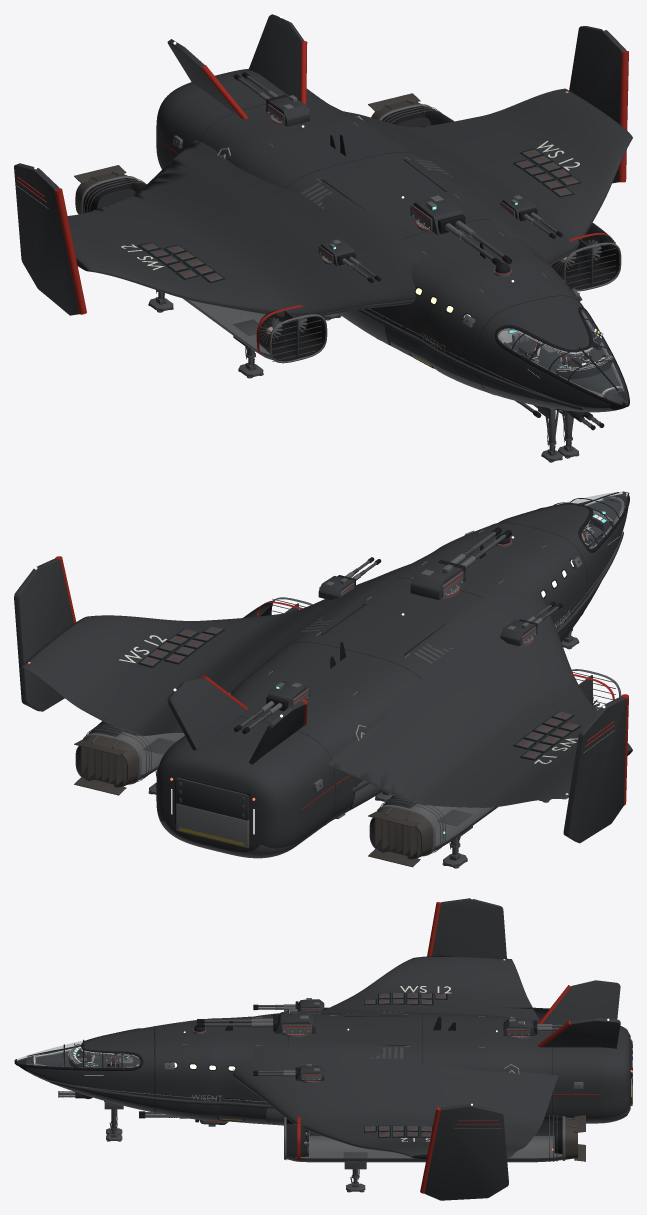
Rendered from Wisent.5903a7644e.glb.
3 renders of one model, top to bottom at view 1: azimuth 30°, elevation 25°; view 2: azimuth 150°, elevation 25°; view 3: azimuth 270°, elevation 25°, orthographic. The views are drawn at different scales.
Visible parts, largest first — view 1: Fluegel links.001, Einlasstrennwand.002, Antenne.003, Abgasschlitz.020, Sichtband Glas.001, Einlassgitter.014, Block.006, Austrittsgelaender.002, Fahrwerkslicht.008, Zellendeckel.020, Duesenklappe.004, Brueckenboden.001 (+5 smaller); view 2: Fluegel links.001, Einlasstrennwand.002, Duesenklappe.004, Antenne.003, Block.006, Einlassgitter.014, Zellendeckel.020, Torblatt.001, Rampenaussenseite.001, Fahrwerkslicht.008, Sichtband Glas.001, Austrittsgelaender.002 (+2 smaller); view 3: Fluegel links.001, Einlasstrennwand.002, Antenne.003, Block.006, Sichtband Glas.001, Austrittsgelaender.002, Einlassgitter.014, Fahrwerkslicht.008, Zellendeckel.020, Brueckenboden.001, Duesenklappe.004, Abgasschlitz.020 (+1 smaller).
Part boxes in pixels (<box>): Fluegel links.001: <box>67,68,632,412</box>; Einlasstrennwand.002: <box>14,14,626,417</box>; Antenne.003: <box>137,72,629,430</box>; Abgasschlitz.020: <box>83,106,619,366</box>; Sichtband Glas.001: <box>498,310,627,404</box>; Einlassgitter.014: <box>84,75,615,427</box>; Block.006: <box>80,90,621,427</box>; Austrittsgelaender.002: <box>16,41,628,366</box>; Fahrwerkslicht.008: <box>148,290,579,462</box>; Zellendeckel.020: <box>140,149,579,281</box>; Duesenklappe.004: <box>74,93,580,325</box>; Brueckenboden.001: <box>507,329,624,396</box>; Fluegel links.001: <box>21,496,632,858</box>; Einlasstrennwand.002: <box>14,531,626,843</box>; Duesenklappe.004: <box>74,560,579,867</box>; Antenne.003: <box>137,491,629,825</box>; Block.006: <box>82,530,621,856</box>; Einlassgitter.014: <box>86,529,615,853</box>; Zellendeckel.020: <box>140,626,579,758</box>; Torblatt.001: <box>176,778,248,820</box>; Rampenaussenseite.001: <box>176,804,247,847</box>; Fahrwerkslicht.008: <box>143,628,579,868</box>; Sichtband Glas.001: <box>561,492,628,548</box>; Austrittsgelaender.002: <box>55,521,628,809</box>; Fluegel links.001: <box>17,956,630,1162</box>; Einlasstrennwand.002: <box>50,898,620,1200</box>; Antenne.003: <box>14,993,631,1137</box>; Block.006: <box>62,998,583,1160</box>; Sichtband Glas.001: <box>15,1040,139,1067</box>; Austrittsgelaender.002: <box>77,902,600,1193</box>; Einlassgitter.014: <box>59,1004,577,1161</box>; Fahrwerkslicht.008: <box>104,1101,367,1192</box>; Zellendeckel.020: <box>364,993,445,1136</box>; Brueckenboden.001: <box>34,1051,140,1067</box>; Duesenklappe.004: <box>164,1065,585,1161</box>; Abgasschlitz.020: <box>80,993,562,1157</box>.
Size of the model in its own units: 66.3 by 20.35 by 83.3.
